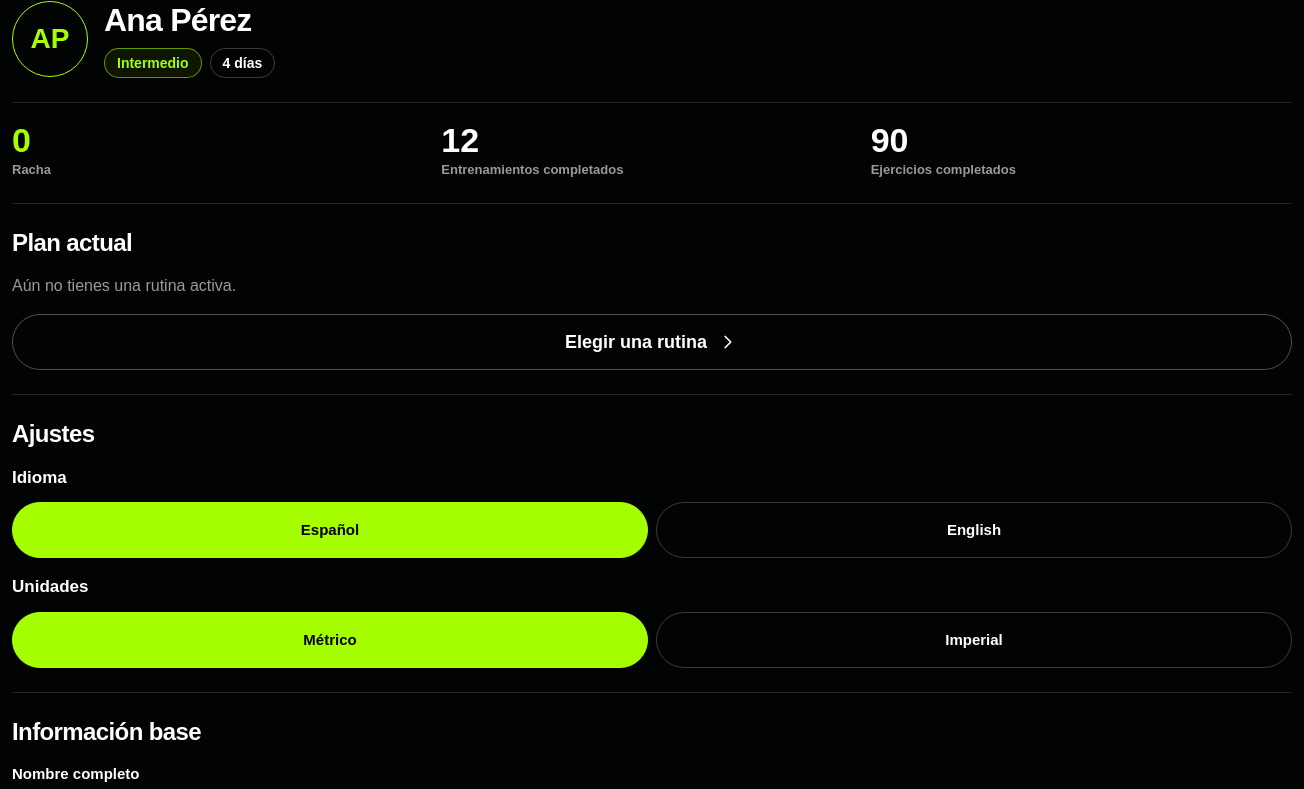
Test case: ProfileContent › does not navigate when the language didn't change
Expected: the heading "Ana Pérez" is shown, [104,0,275,40]
Click the button "Imperial". click: (974, 640)
box: [656,612,1292,668]
(page scrolled)
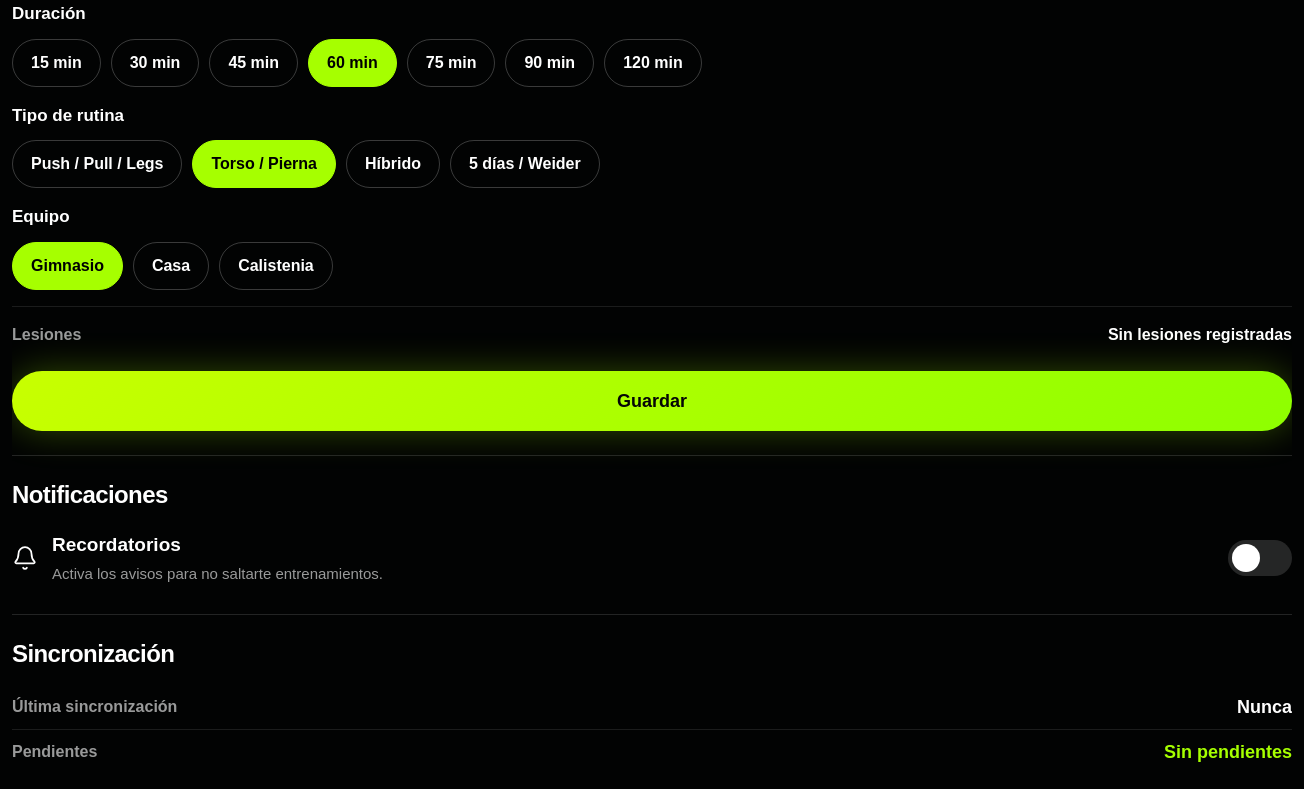
Click the button "Guardar". click: (652, 401)
box: [12,371,1292,431]
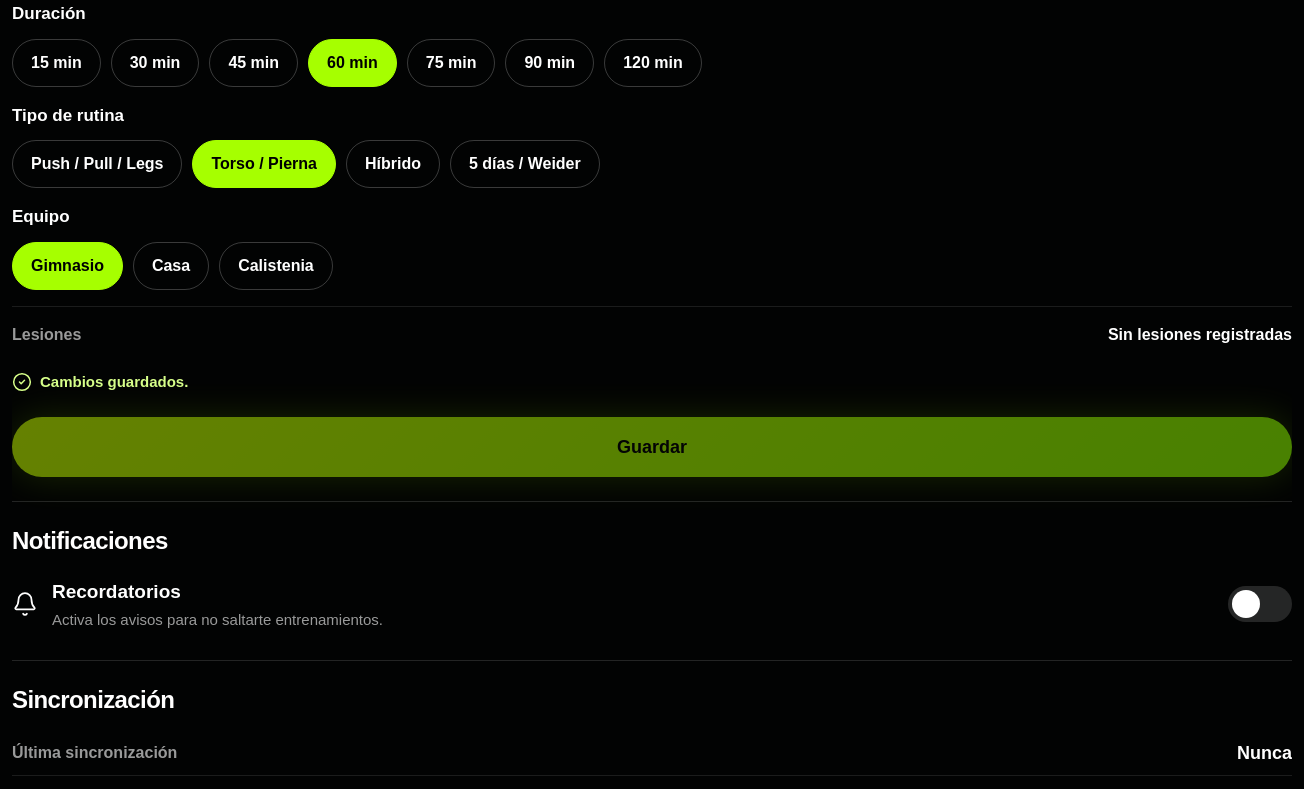
Expected: the text "Cambios guardados." is shown, [40,373,188,390]
